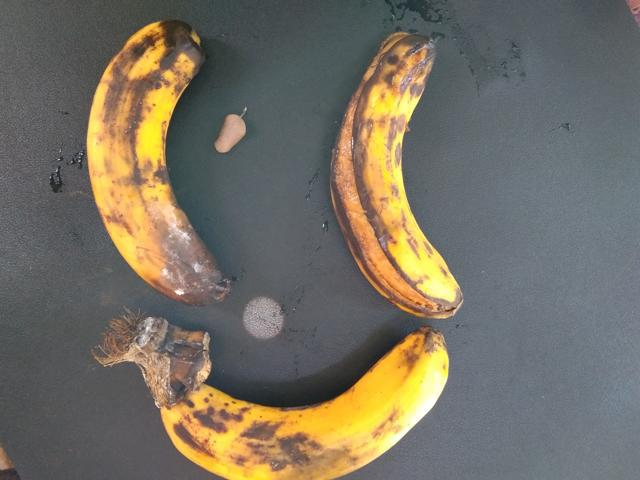overripe: (133, 348, 469, 479)
rotten: (62, 12, 247, 318), (301, 27, 485, 331)
